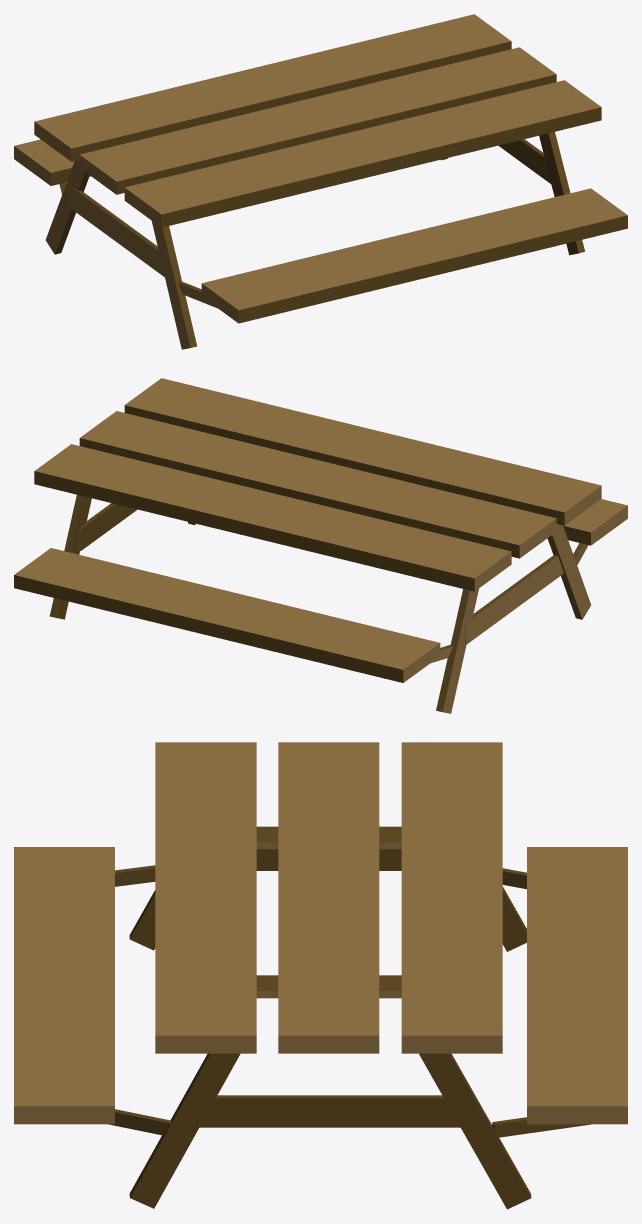
The model's file is picnicTable.fbx.
The picture shows the model from 3 angles, top to bottom: view 1: azimuth 30°, elevation 25°; view 2: azimuth 150°, elevation 25°; view 3: azimuth 270°, elevation 25°; orthographic projection. The views are drawn at different scales.
Visible parts, largest first — view 1: Cube; view 2: Cube; view 3: Cube.
Boxes of the visible parts, x1,y1,x2,y2 form: Cube: (14, 14, 627, 349); Cube: (14, 378, 627, 713); Cube: (14, 742, 627, 1209).
Size of the model in its own units: 1374 by 417 by 1215.
